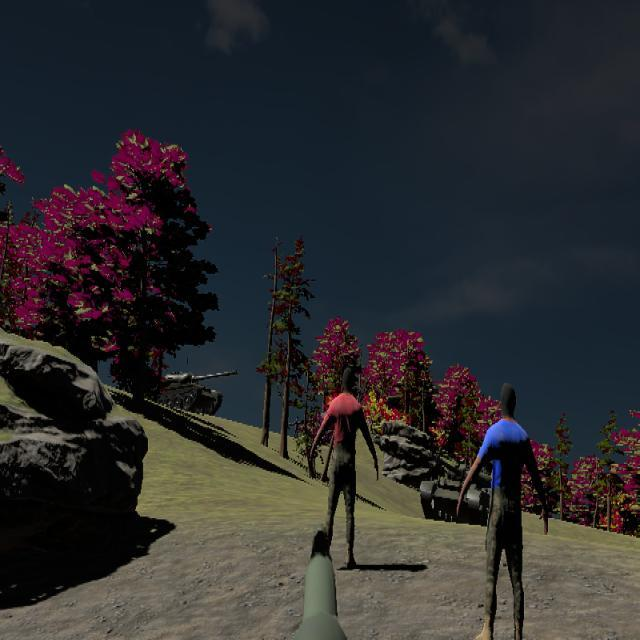Human: (456, 376, 548, 639), (311, 365, 379, 572)
Tank: (143, 368, 240, 419)
